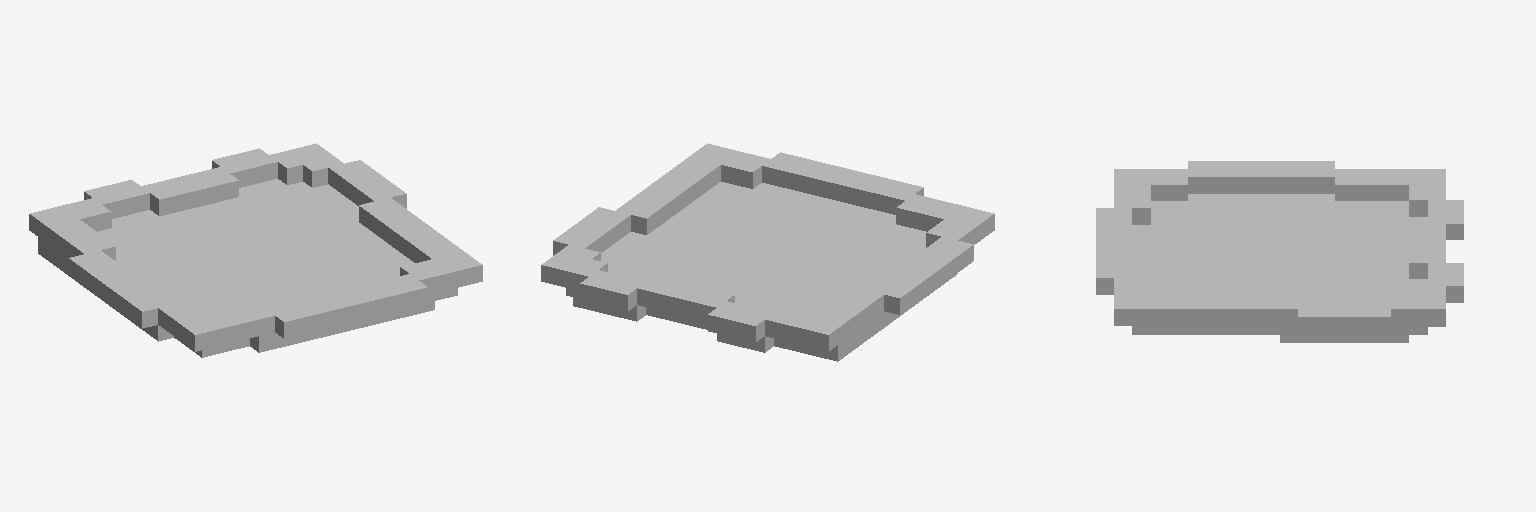
Rendered from Plate.obj.
The picture shows the model from 3 angles: view 1: azimuth 30°, elevation 25°; view 2: azimuth 150°, elevation 25°; view 3: azimuth 270°, elevation 25°; orthographic projection.
Size of the model in its own units: 20 by 2 by 20.